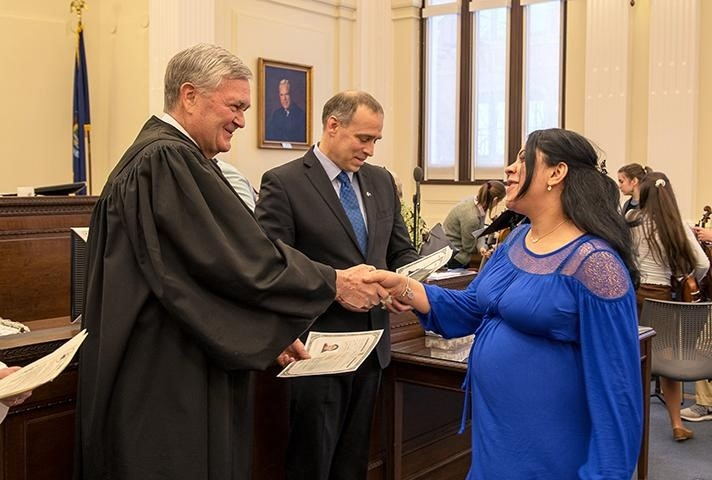face_no_mask: (165, 42, 250, 154), (507, 130, 589, 214), (322, 89, 381, 175), (614, 163, 646, 195)
